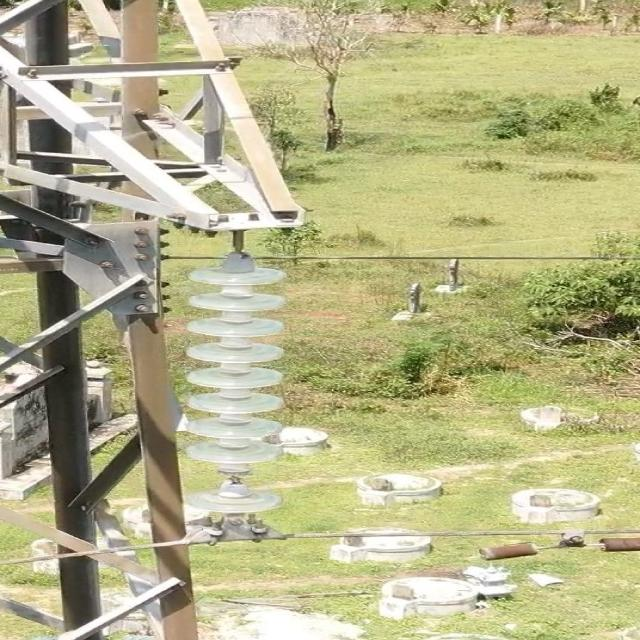杆塔: (0, 0, 307, 640)
正常绝缘子: (164, 232, 288, 548)
绝缘子破损: (215, 467, 253, 490)
